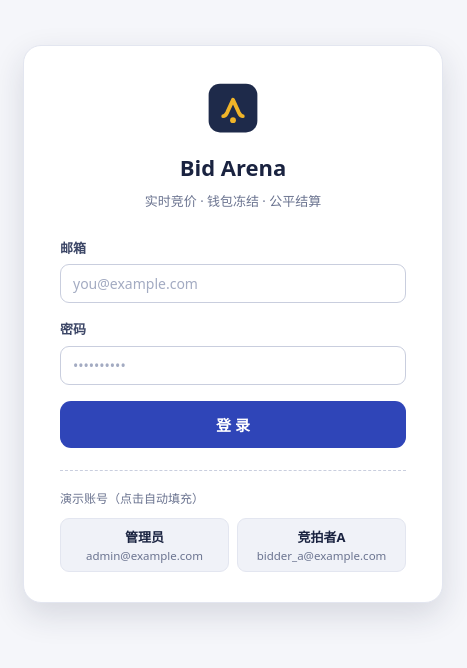
Scenario: LoginView › 登录失败（1001）显示「邮箱或密码错误」且不落会话
Type "bidder_a@example.com" into the field with id "login-email" at [233, 284], box [60,264,406,303]
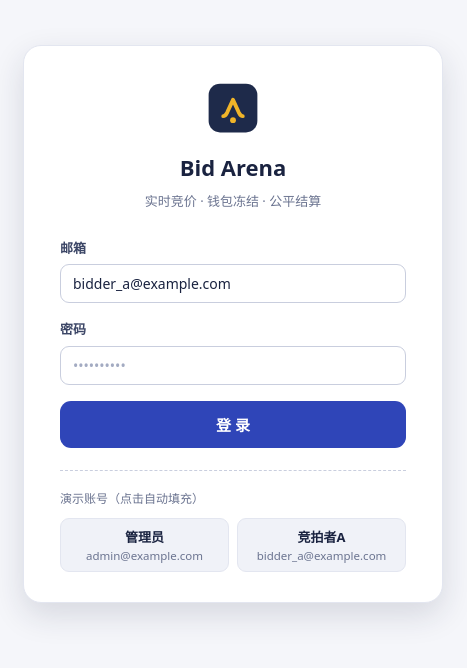
Type "wrong-password" into the password field with id "login-password" at [233, 366], box [60,346,406,385]
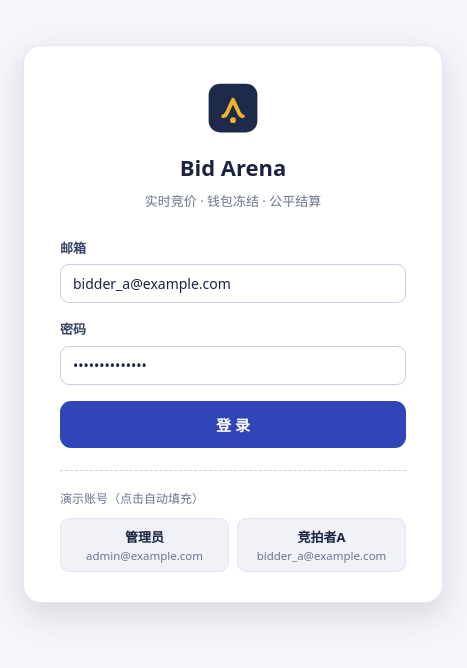
Submit the form, box [60,238,406,448]
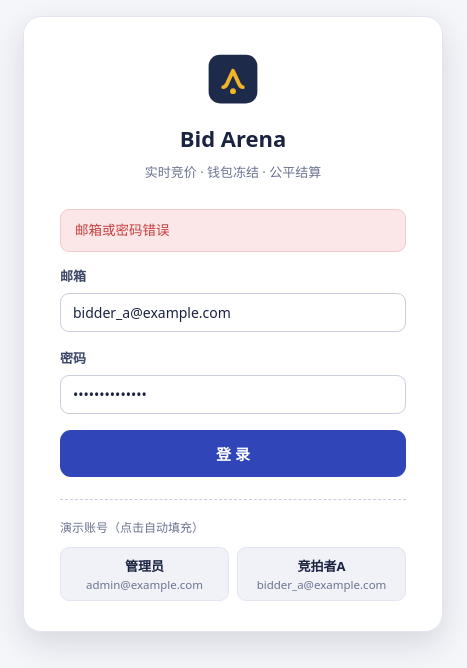
Now the text "邮箱或密码错误" is shown, box [60,209,406,252]
